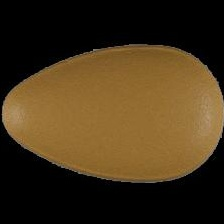66336-566: (0, 0, 224, 224)
